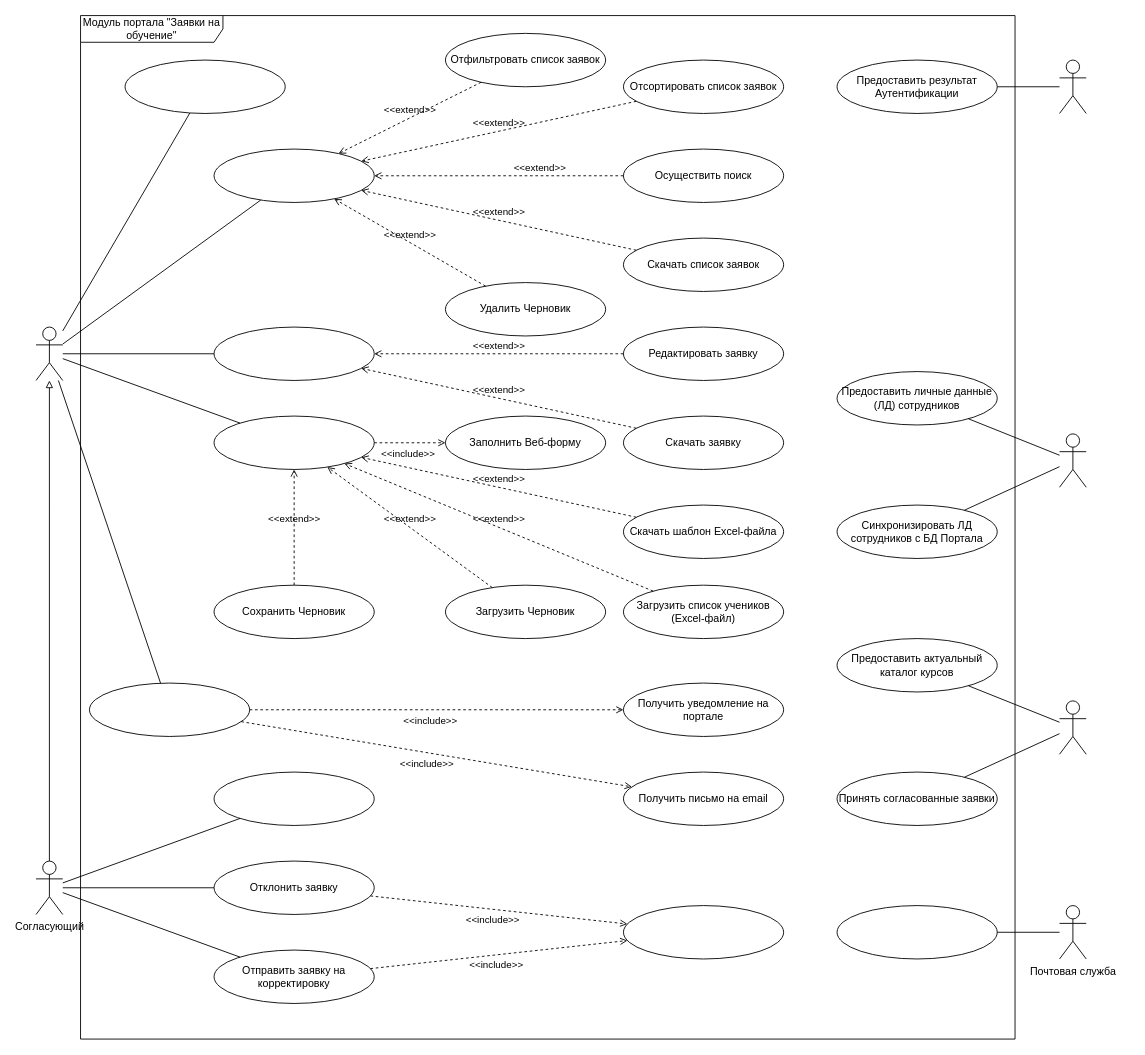
Image size: 1145x1055. Some labels were removed from this diagram. The shapes that lost their labels are listed below. From the top down, each one's centre as x and y in pixels, then its label:
(204,86): Авторизоваться на Портале
(1072,86): Система аутентификации (SSO) и авторизации
(293,175): Посмотреть список завок
(49,353): Заявитель
(293,353): Посмотреть заявку
(293,442): Создать заявку
(1072,460): Active Directory
(169,709): Получить уведомления об изменениях статуса заявок
(1072,727): СДО
(293,798): Одобрить заявку
(703,932): Оставить комментарий
(916,932): Получить данные об изменениях статуса заявки
